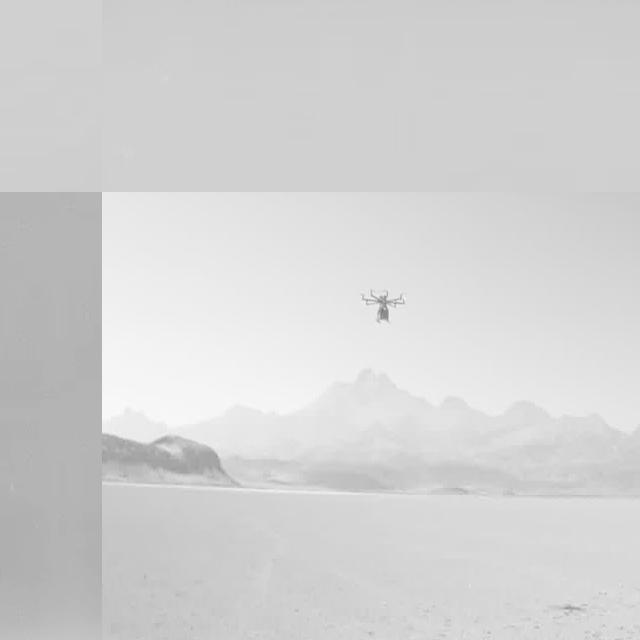0: (0, 471, 25, 506), (116, 145, 138, 173), (151, 68, 175, 92)
drone: (359, 280, 407, 333)
